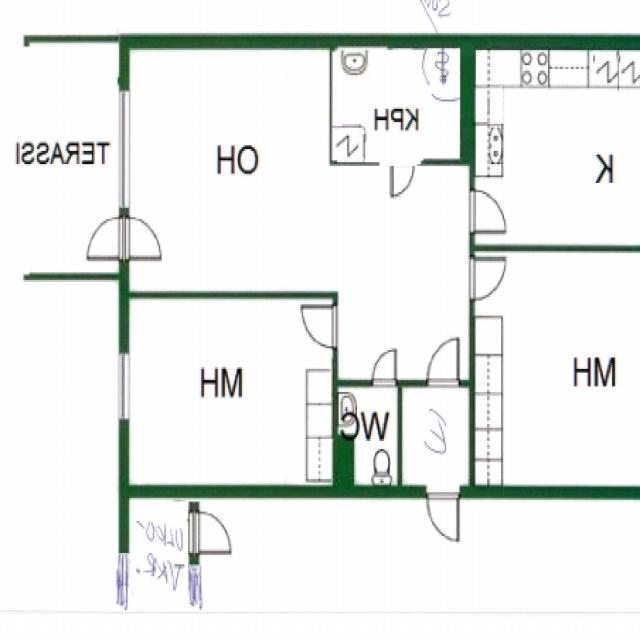door: (191, 509, 233, 554), (428, 486, 460, 544), (121, 216, 163, 258), (90, 216, 131, 258), (471, 257, 507, 300), (303, 307, 339, 349), (428, 339, 459, 387), (471, 191, 505, 232), (390, 159, 416, 200), (373, 349, 396, 387)
